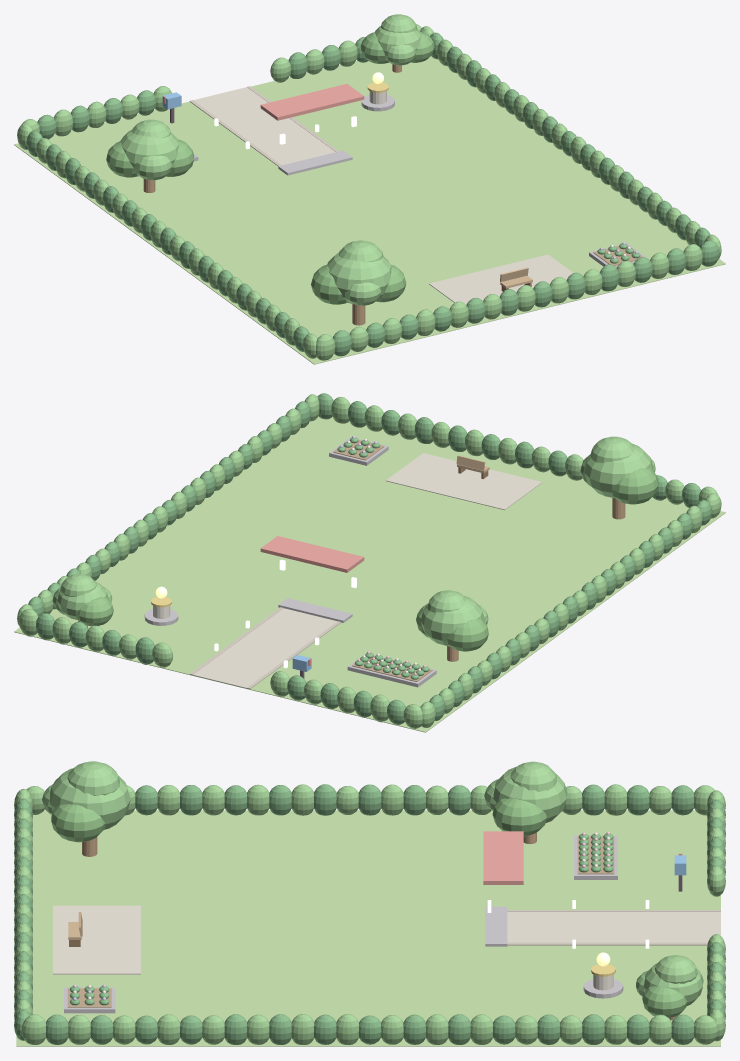
File: Lot.glb
The picture shows the model from 3 angles, top to bottom: view 1: azimuth 30°, elevation 25°; view 2: azimuth 150°, elevation 25°; view 3: azimuth 270°, elevation 25°; orthographic projection. The views are drawn at different scales.
Parts seen in each view (by area): view 1: Lot_8, Lot_4, Lot_1, Lot_13, Lot_2, Lot_14, Lot_9, Lot_12; view 2: Lot_8, Lot_4, Lot_1, Lot_13, Lot_2, Lot_9, Lot_14, Lot_12, Lot_7; view 3: Lot_8, Lot_4, Lot_1, Lot_13, Lot_2, Lot_9, Lot_14, Lot_12, Lot_7, Lot_20.
Boxes of the visible parts, x1,y1,x2,y2 form: Lot_8: (14,56,725,364); Lot_4: (17,14,721,360); Lot_1: (26,32,719,356); Lot_13: (193,87,573,304); Lot_2: (106,31,434,304); Lot_14: (260,84,364,120); Lot_9: (193,95,647,267); Lot_12: (189,86,338,166); Lot_8: (14,416,725,732); Lot_4: (17,394,721,728); Lot_1: (28,393,711,724); Lot_13: (192,453,542,688); Lot_2: (52,454,658,651); Lot_9: (144,437,436,687); Lot_14: (260,536,364,572); Lot_12: (189,607,341,689); Lot_7: (333,440,432,681); Lot_8: (16,810,720,1046); Lot_4: (14,761,725,1044); Lot_1: (14,784,725,1044); Lot_13: (53,905,720,974); Lot_2: (51,798,703,1017); Lot_9: (64,835,623,1013); Lot_14: (483,831,523,884); Lot_12: (507,910,720,945); Lot_7: (67,836,614,1007); Lot_20: (73,832,613,999).
Size of the model in its own units: 76.6 by 14.21 by 97.
